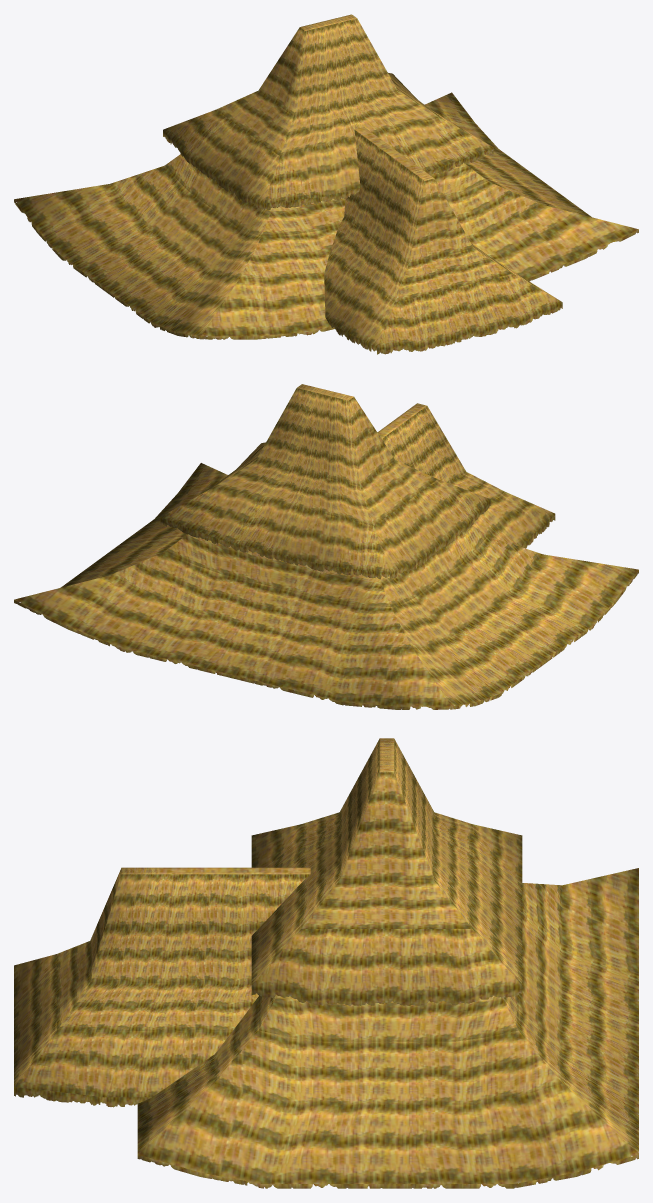
The model's file is roof_cc.dae.
The picture shows the model from 3 angles, top to bottom: view 1: azimuth 30°, elevation 25°; view 2: azimuth 150°, elevation 25°; view 3: azimuth 270°, elevation 25°; orthographic projection. The views are drawn at different scales.
Visible parts, largest first — view 1: cc.001; view 2: cc.001; view 3: cc.001.
Part boxes in pixels (x1,y1,x2,y2): cc.001: (14, 14, 638, 354); cc.001: (14, 384, 638, 709); cc.001: (14, 738, 638, 1188).
Bounding box in the file's own units: 23.23 × 21.42 × 11.
